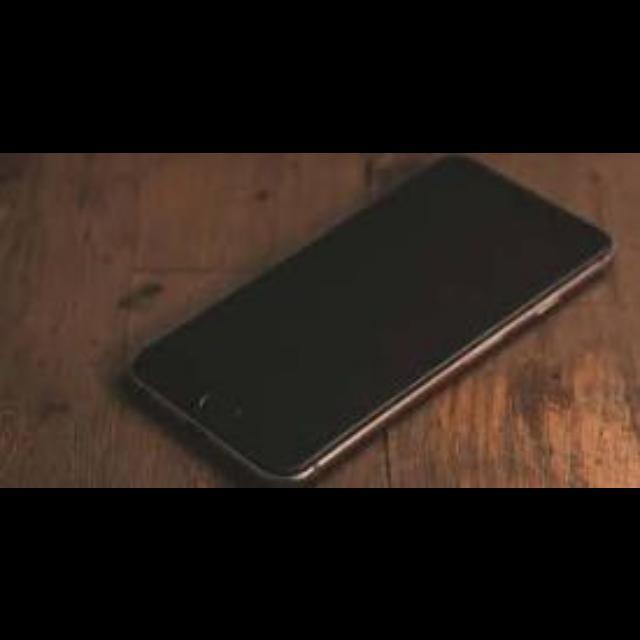phone: (114, 153, 640, 484)
